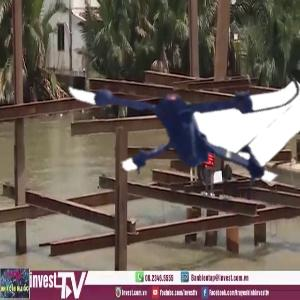drone: (72, 10, 292, 230)
